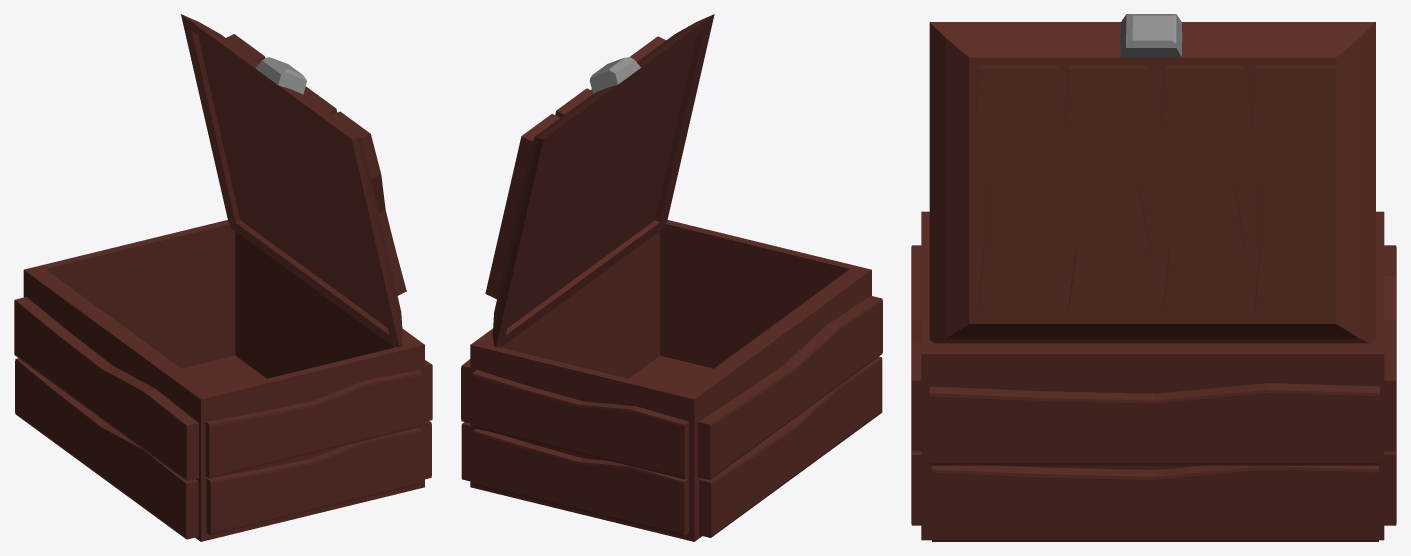
File: Produce Bin.fbx
3 renders of one model, left to right at view 1: azimuth 30°, elevation 25°; view 2: azimuth 150°, elevation 25°; view 3: azimuth 270°, elevation 25°, orthographic. The views are drawn at different scales.
Parts seen in each view (by area): view 1: Cube, Cube.009; view 2: Cube, Cube.009; view 3: Cube.009, Cube.
Boxes of the visible parts, bbox=[...] form: Cube: bbox=[14, 220, 432, 541]; Cube.009: bbox=[181, 14, 406, 347]; Cube: bbox=[461, 220, 882, 541]; Cube.009: bbox=[485, 14, 714, 347]; Cube.009: bbox=[929, 14, 1375, 343]; Cube: bbox=[911, 211, 1396, 541].
Bounding box in the file's own units: 364 × 524 × 473.
